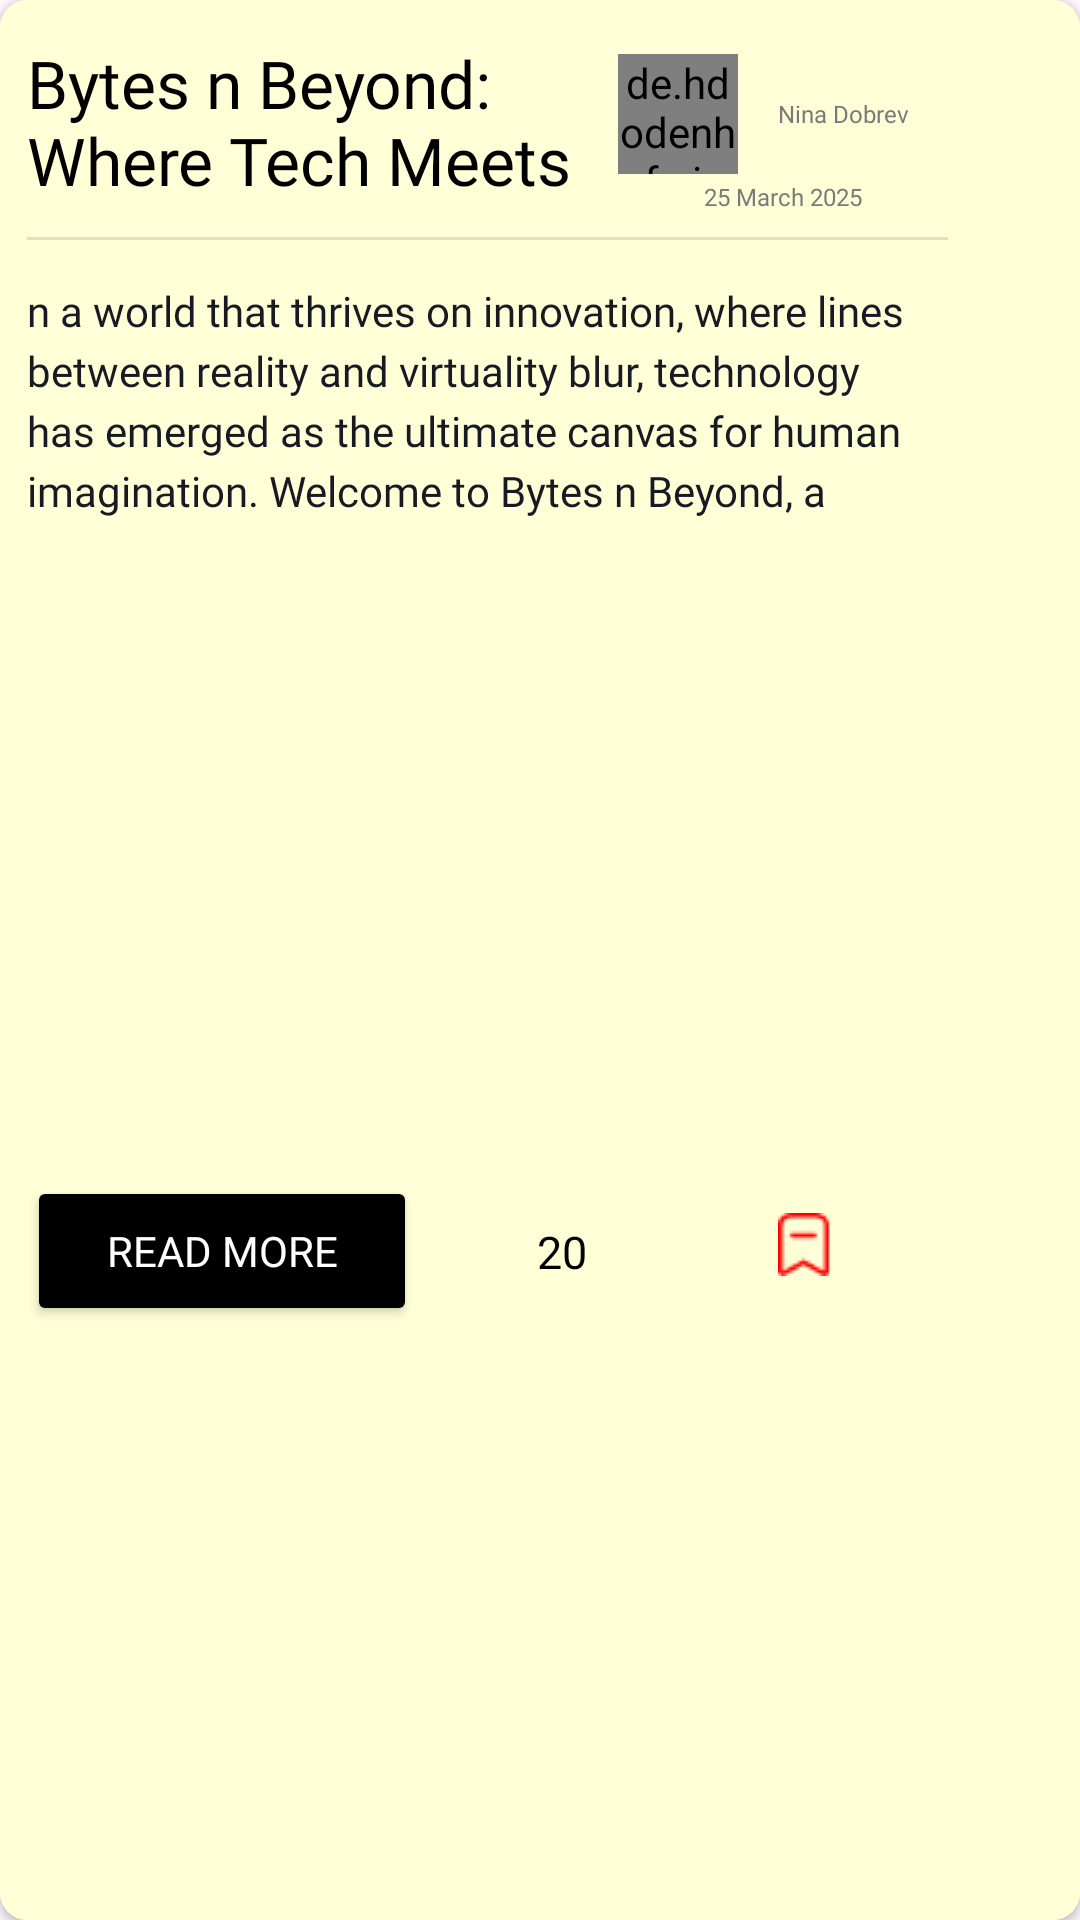

Icon click points for this 1080px×1920px phone screenshot, format point (x, y):
save: point (804, 1244)
